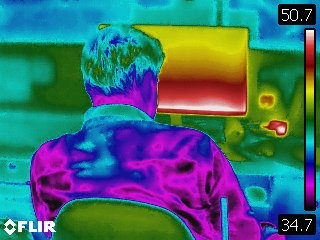human: (29, 25, 261, 239)
